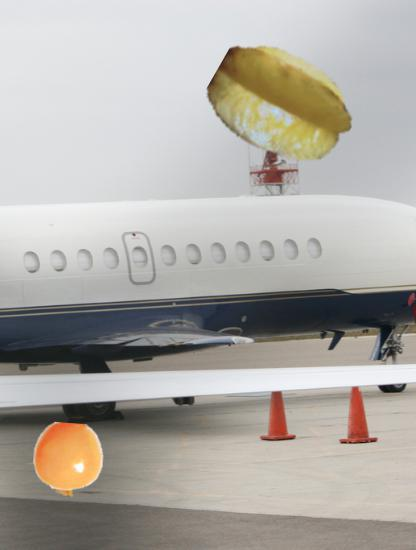Carambula: (208, 32, 354, 178)
Physalis: (31, 423, 107, 499)
